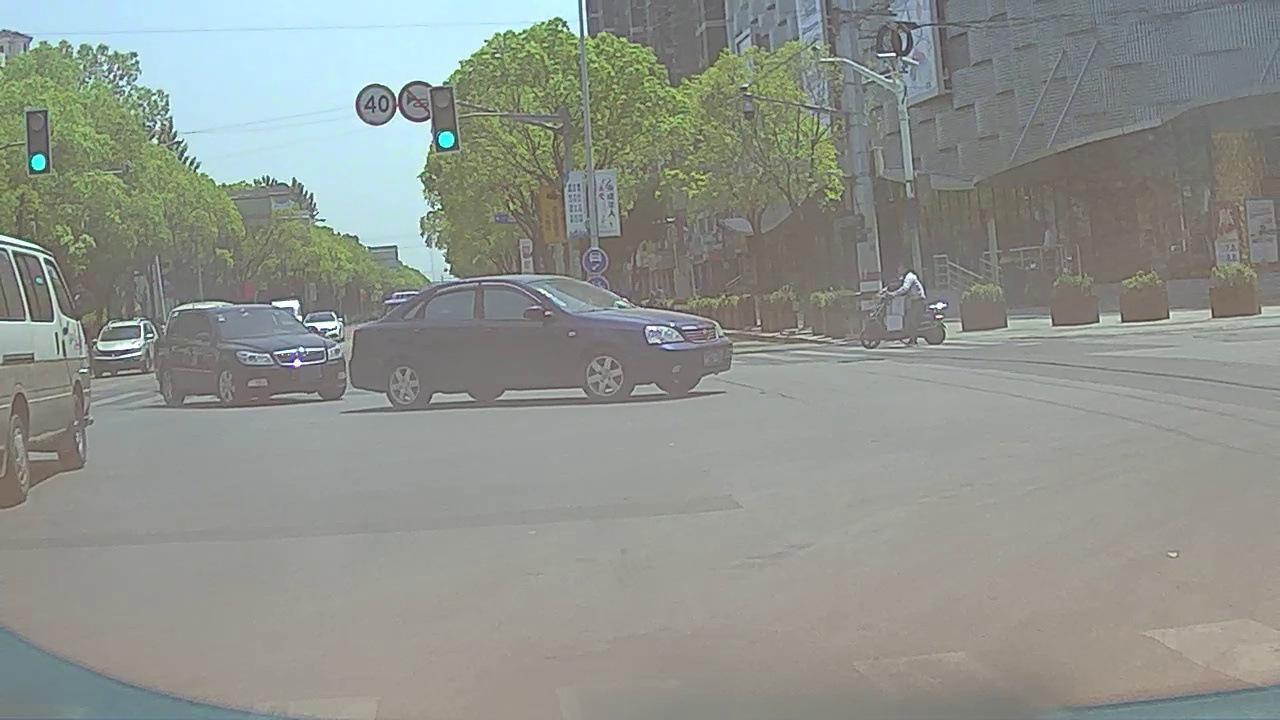traffic_light: (431, 86, 457, 151), (28, 109, 51, 174)
